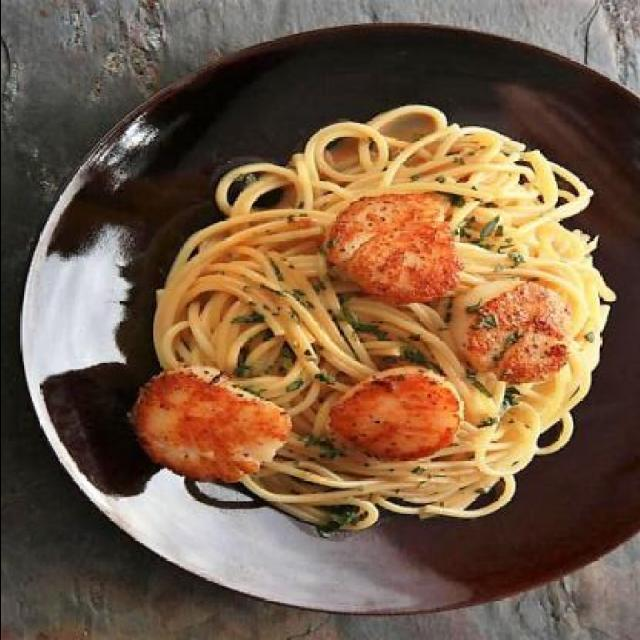Pasta al ragu: (119, 95, 615, 563)
